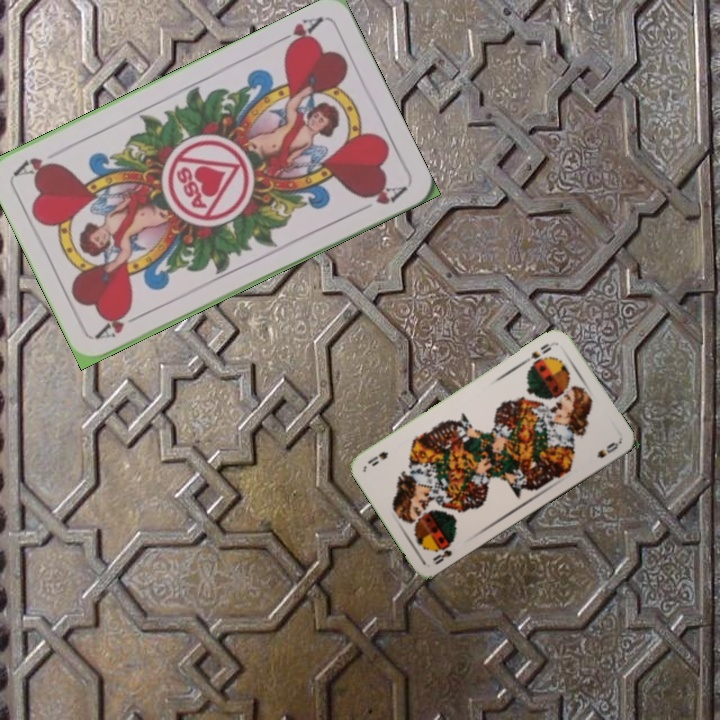HA: (271, 12, 327, 54), (92, 307, 148, 342)
SO: (429, 540, 455, 567), (526, 339, 554, 362)
